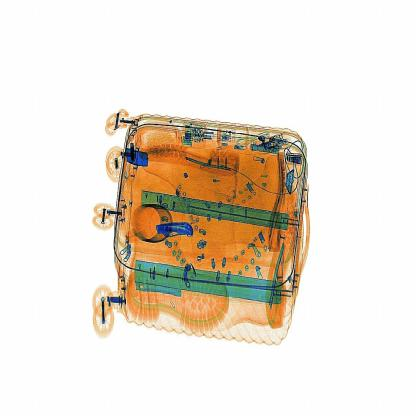knife: (149, 212, 199, 240)
